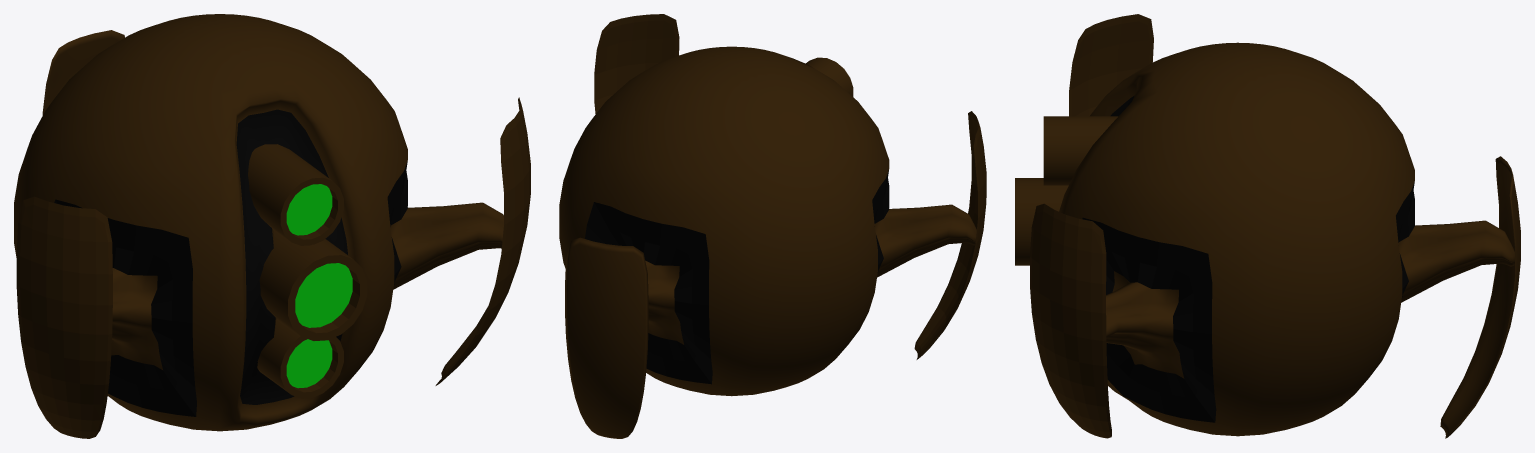
The model's file is Robot.FBX.
3 renders of one model, left to right at view 1: azimuth 30°, elevation 25°; view 2: azimuth 150°, elevation 25°; view 3: azimuth 270°, elevation 25°, orthographic. The views are drawn at different scales.
Parts seen in each view (by area): view 1: Sphere001, Object004, Cylinder002, Object003, Object002; view 2: Sphere001, Object002, Object003, Object004, Cylinder002; view 3: Sphere001, Object003, Object002, Object004, Cylinder002.
Boxes of the visible parts, left/top/right/bottom form: Sphere001: left=14, top=14, right=503, bottom=431; Object004: left=16, top=196, right=112, bottom=438; Cylinder002: left=248, top=144, right=367, bottom=398; Object003: left=435, top=97, right=530, bottom=385; Object002: left=42, top=30, right=124, bottom=115; Sphere001: left=559, top=46, right=976, bottom=396; Object002: left=565, top=237, right=648, bottom=438; Object003: left=594, top=14, right=679, bottom=113; Object004: left=914, top=111, right=986, bottom=359; Cylinder002: left=806, top=57, right=853, bottom=96; Sphere001: left=1059, top=42, right=1514, bottom=436; Object003: left=1030, top=203, right=1111, bottom=438; Object002: left=1440, top=156, right=1520, bottom=438; Object004: left=1069, top=14, right=1153, bottom=116; Cylinder002: left=1015, top=116, right=1117, bottom=265.
Bounding box in the file's own units: 157 × 118 × 151.
